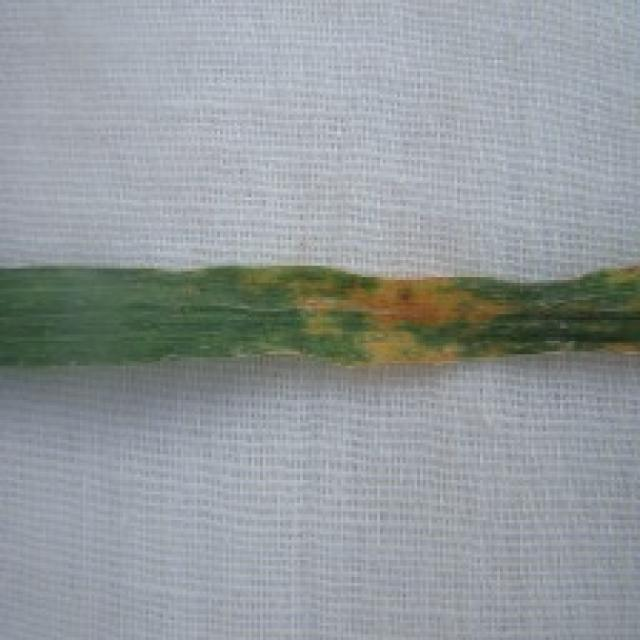Bacterial_Blight: (288, 246, 512, 382)
